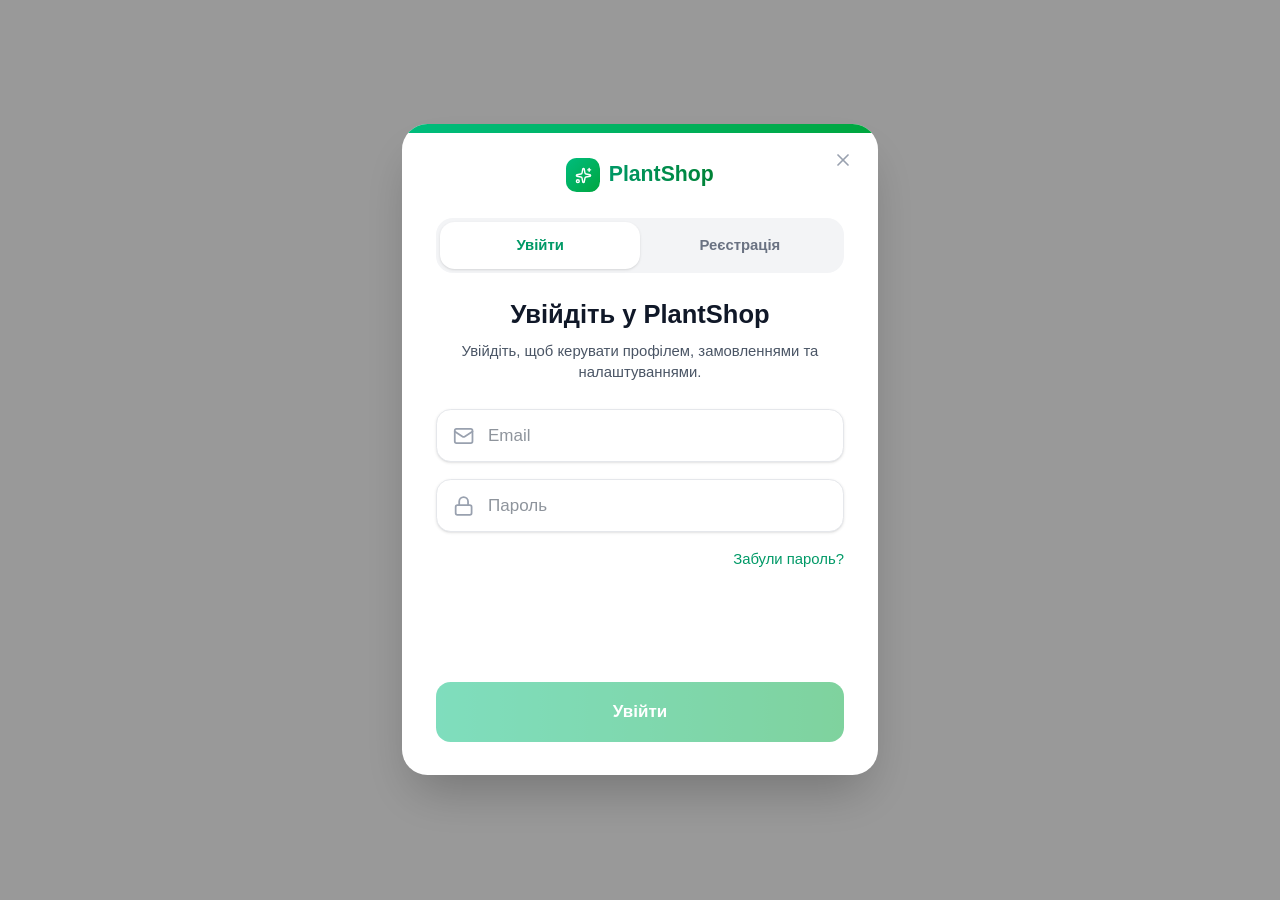
Test: AuthModal › вбудовує forgot-password прямо в модалку
Click the button "Забули пароль?".
click(789, 560)  # box [733,549,844,570]
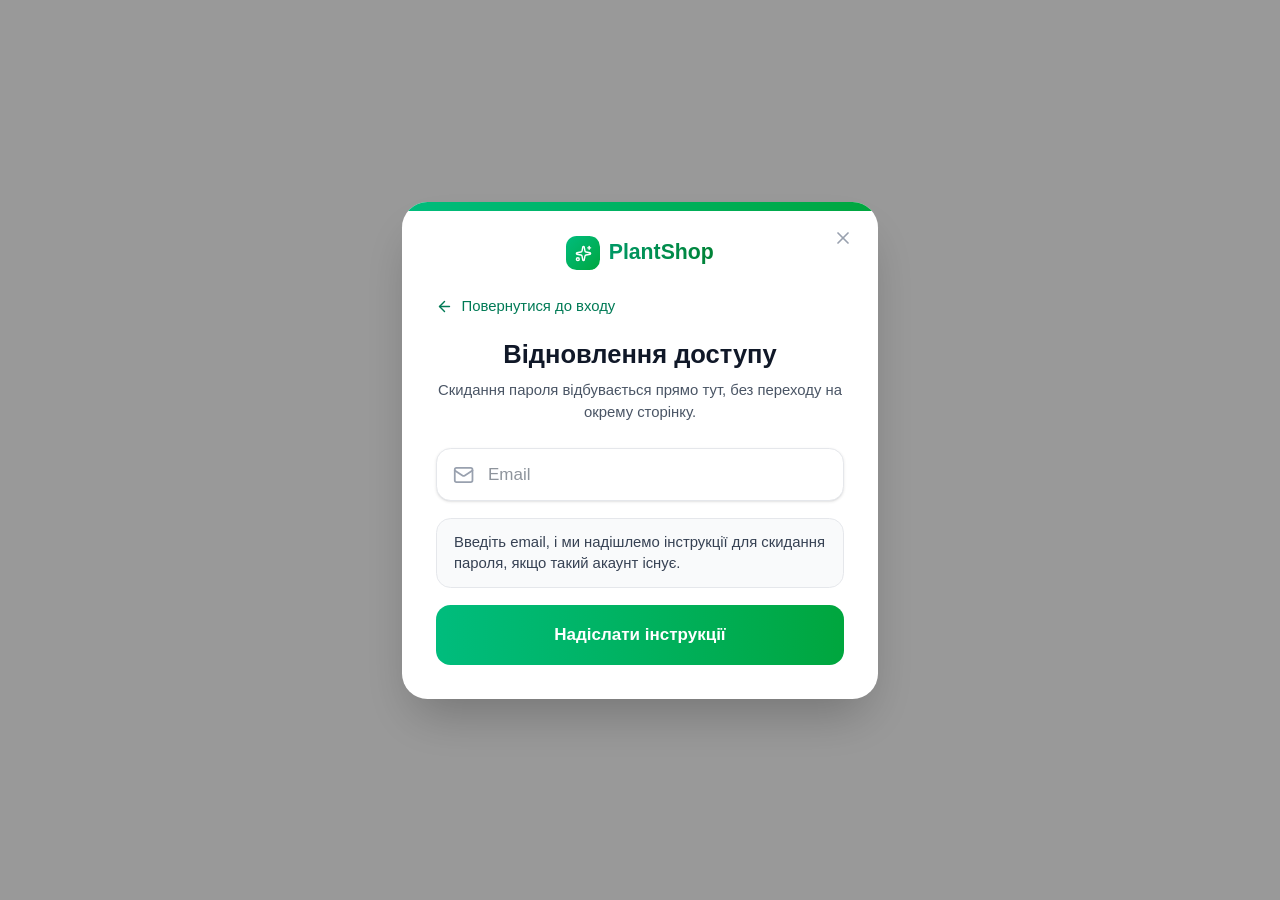
Type "user@example.com" into the field with placeholder "Email".
click(640, 474); type("user@example.com")  # box [436,448,844,501]
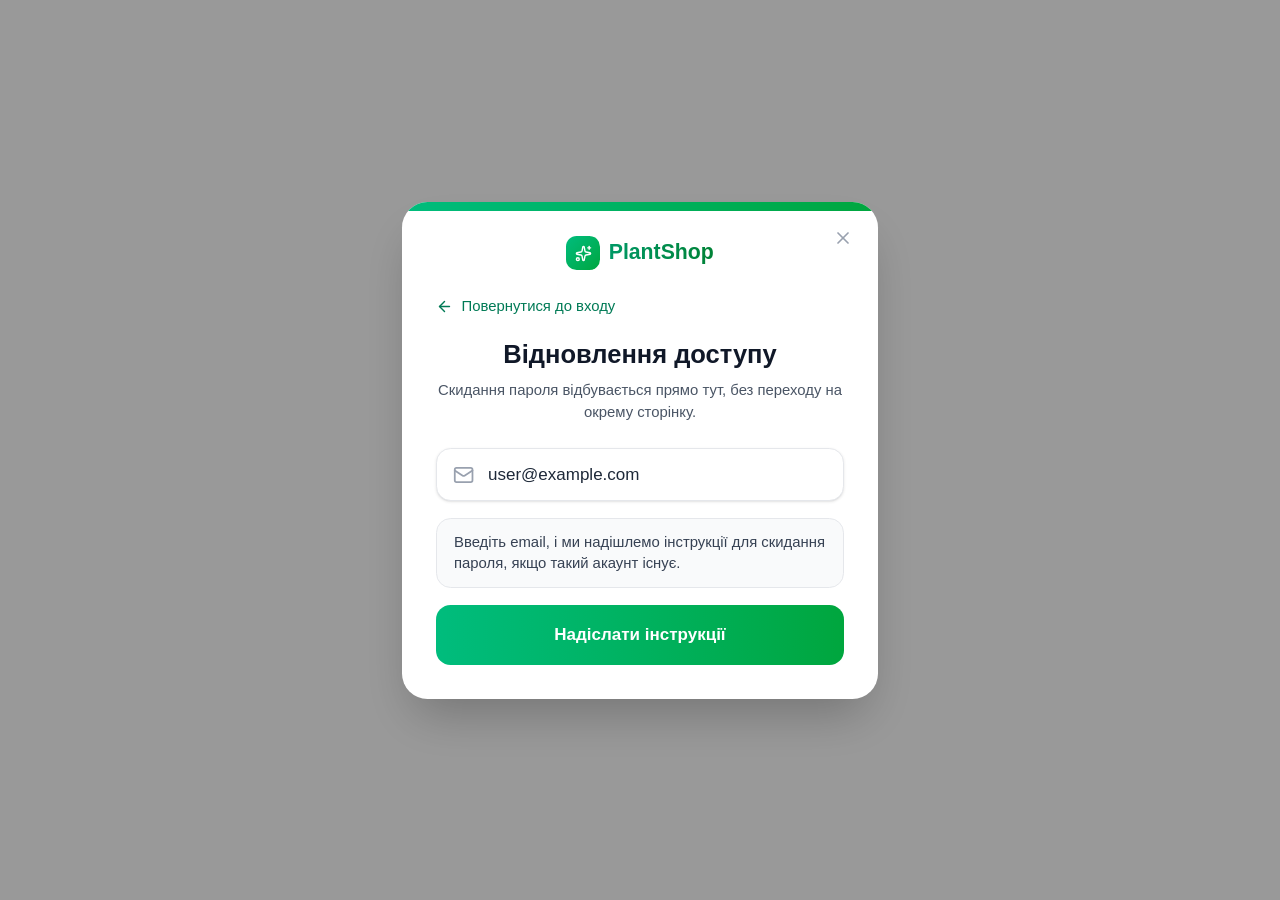
Click the button "Надіслати інструкції".
click(640, 635)  # box [436,605,844,664]
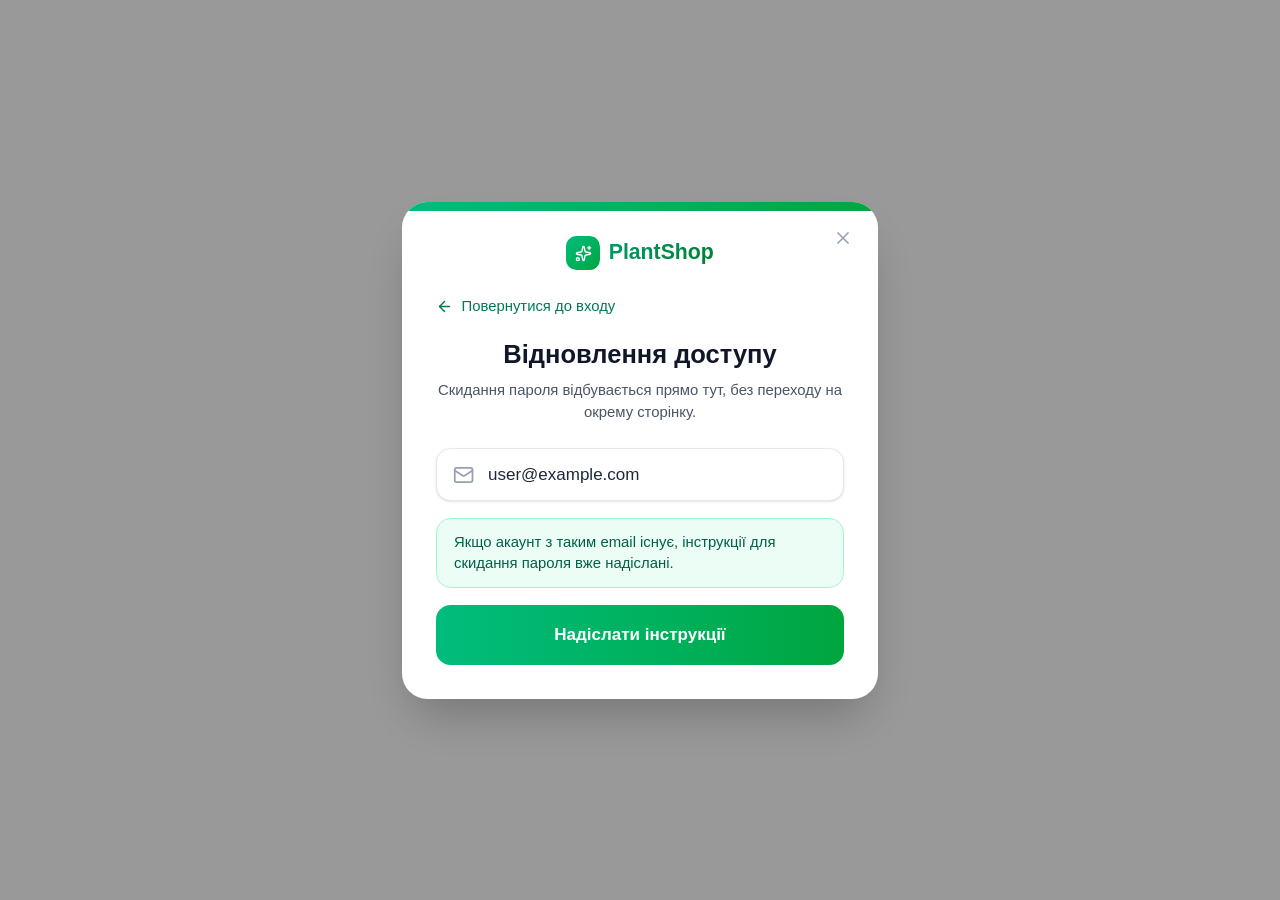
Expected: the text "інструкції для скидання пароля вже надіслані" is shown, [454,534,776,571]
